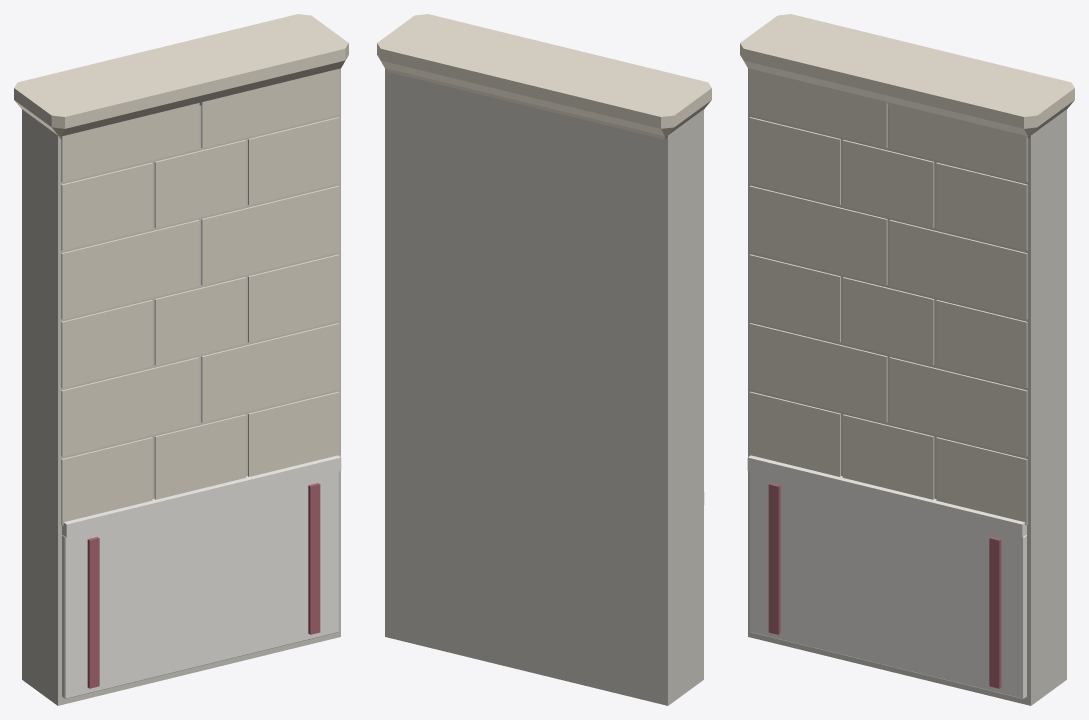
Rendered from roman-bathhouse-and-palaestra-bathhouse-wall-module-0e40db23__37853.glb.
3 views of the same model, side by side, from view 1: azimuth 30°, elevation 25°; view 2: azimuth 150°, elevation 25°; view 3: azimuth 330°, elevation 25° (orthographic).
Parts seen in each view (by area): view 1: bathhouse-wall-module; view 2: bathhouse-wall-module; view 3: bathhouse-wall-module.
Boxes of the visible parts, bbox=[...] form: bathhouse-wall-module: bbox=[14, 14, 348, 705]; bathhouse-wall-module: bbox=[377, 14, 711, 705]; bathhouse-wall-module: bbox=[740, 14, 1074, 705].
Size of the model in its own units: 2.1 by 4 by 0.5799.
